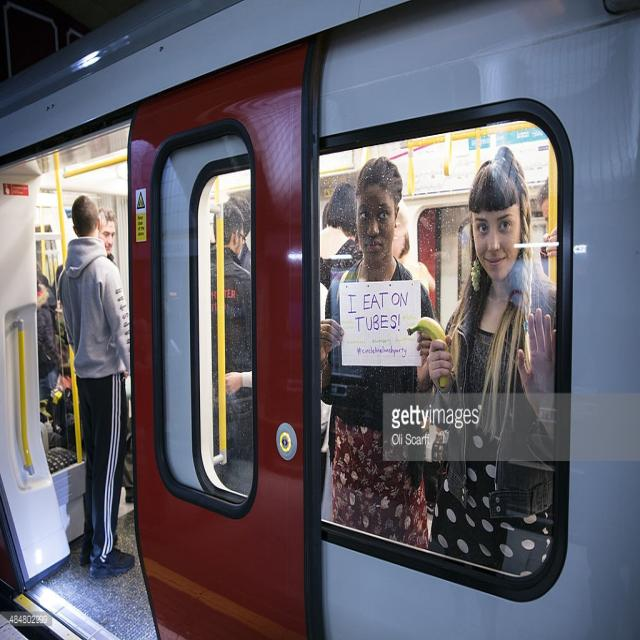body: (427, 146, 558, 577), (318, 155, 438, 549), (54, 192, 139, 583), (96, 206, 136, 507), (208, 202, 254, 460), (32, 256, 72, 453), (319, 178, 365, 291), (391, 200, 436, 299), (227, 194, 255, 274), (535, 174, 560, 262), (223, 368, 255, 397)
